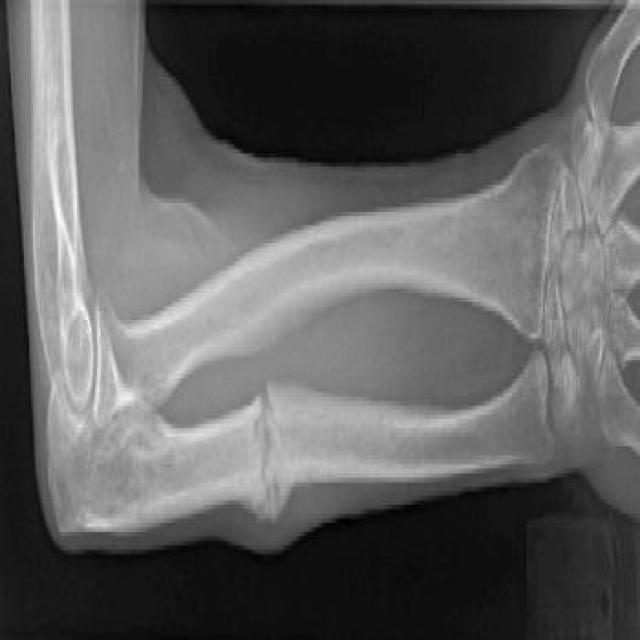fracture: (247, 342, 287, 543)
